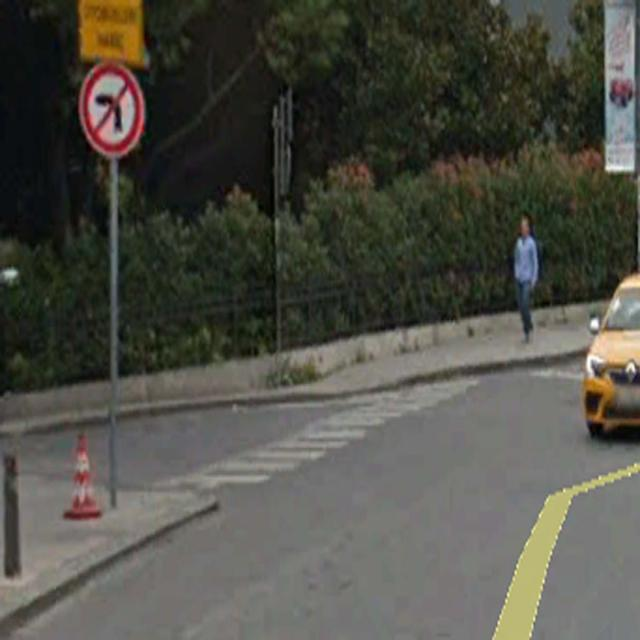soladonulmez: (78, 62, 146, 161)
